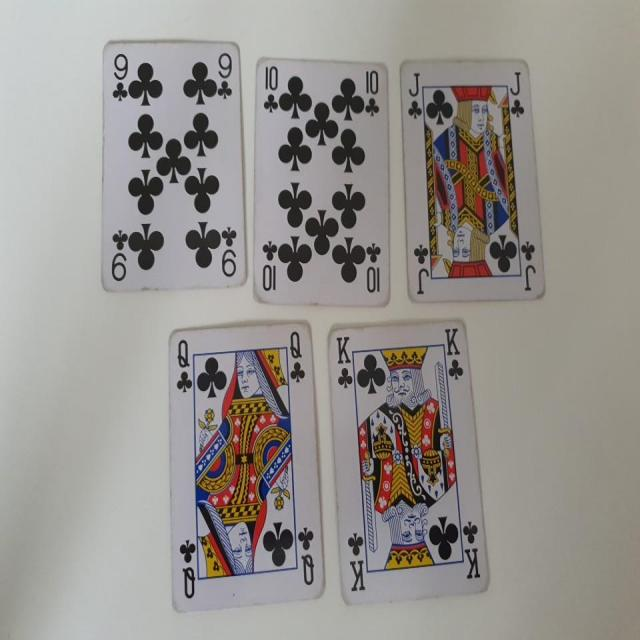10 Trefoils: (250, 53, 393, 312)
9 Trefoils: (100, 39, 250, 294)
J Trefoils: (398, 58, 546, 304)
K Trefoils: (327, 321, 492, 605)
Q Trefoils: (166, 318, 327, 614)
